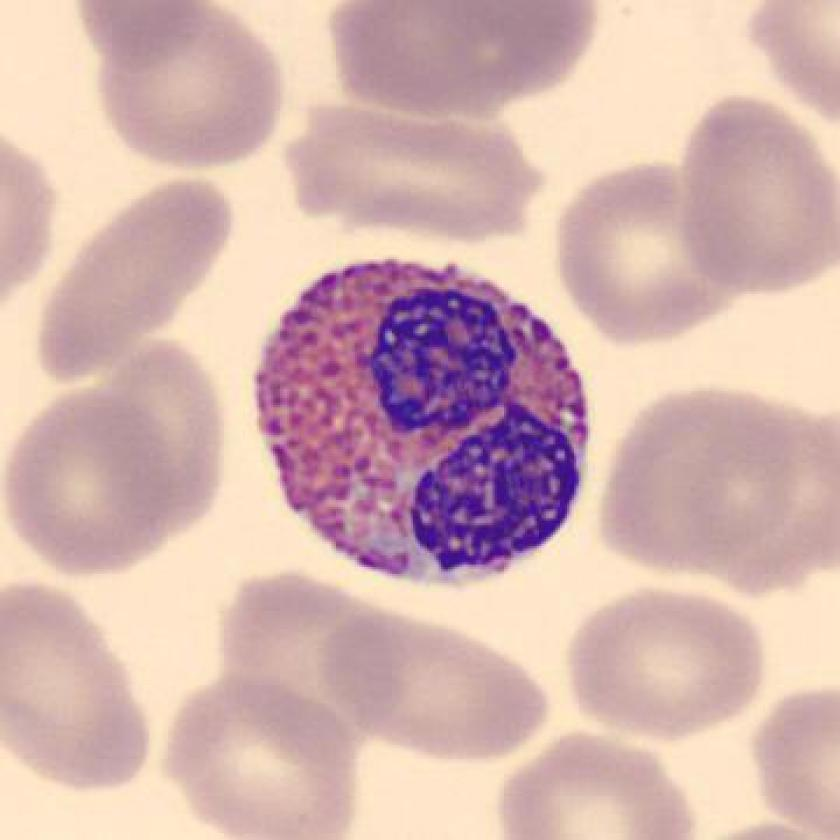eosinophil: (241, 242, 603, 596)
